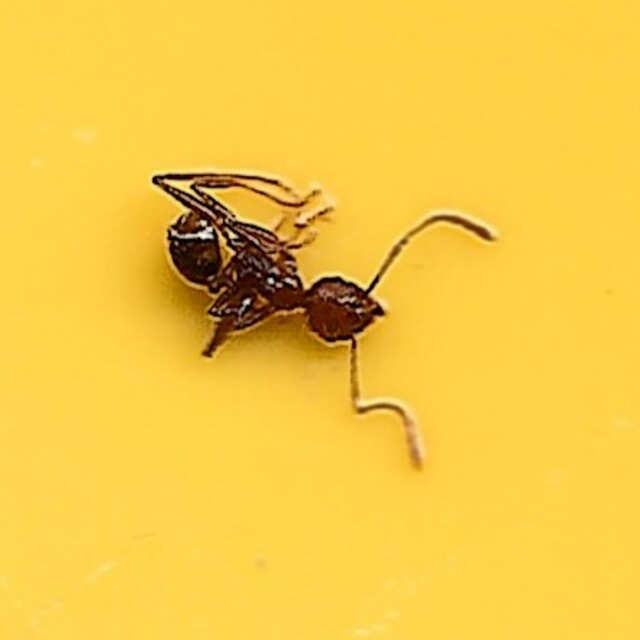Hymenoptera: (144, 169, 496, 471)
